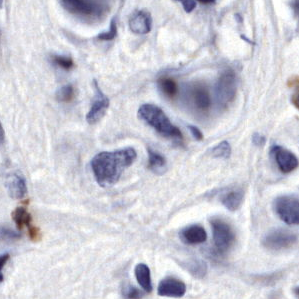Lymphocyte: (11, 207, 34, 229)
